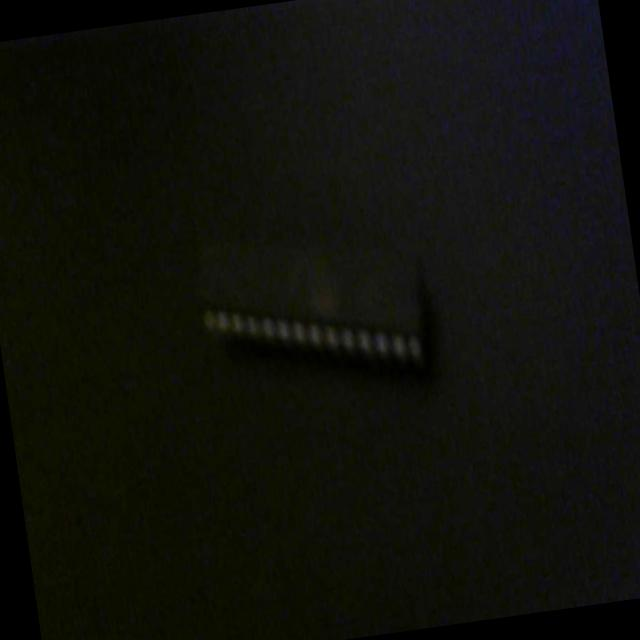atmega: (175, 191, 442, 411)
